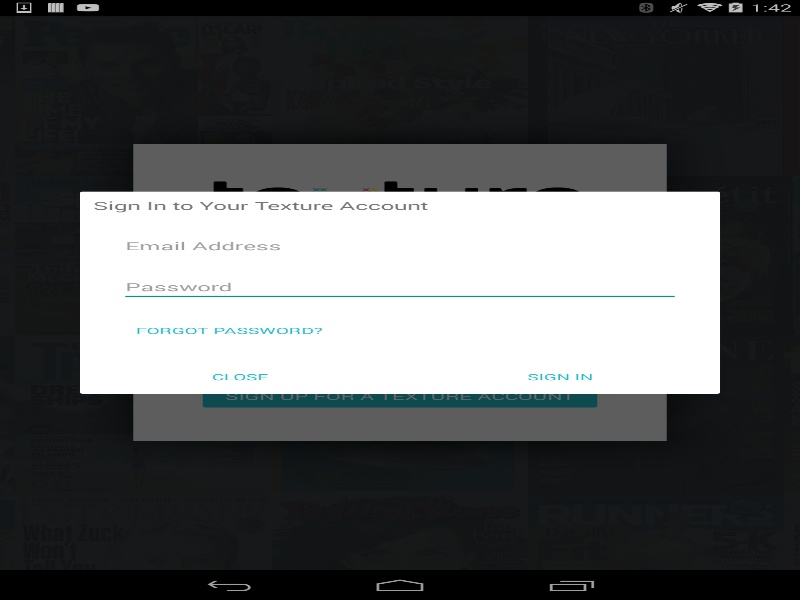Button: (120, 313, 680, 347), (80, 360, 400, 393), (400, 360, 720, 393)
Input: (120, 231, 680, 260), (120, 272, 680, 301)
